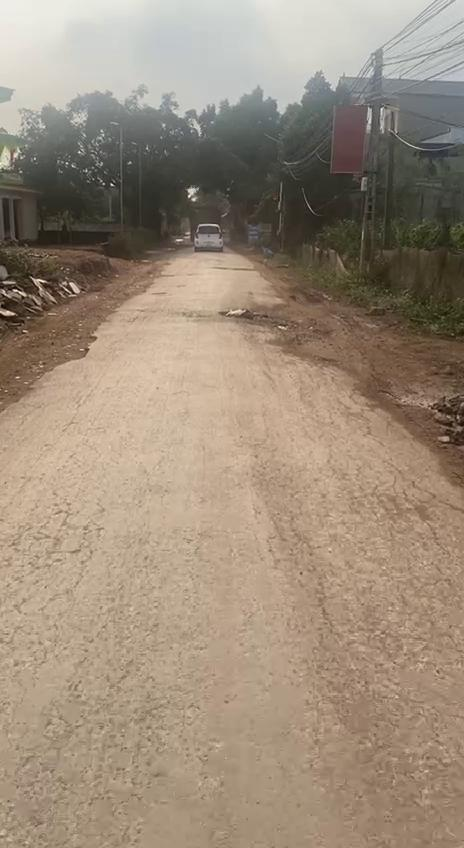pothole: (220, 306, 289, 328)
